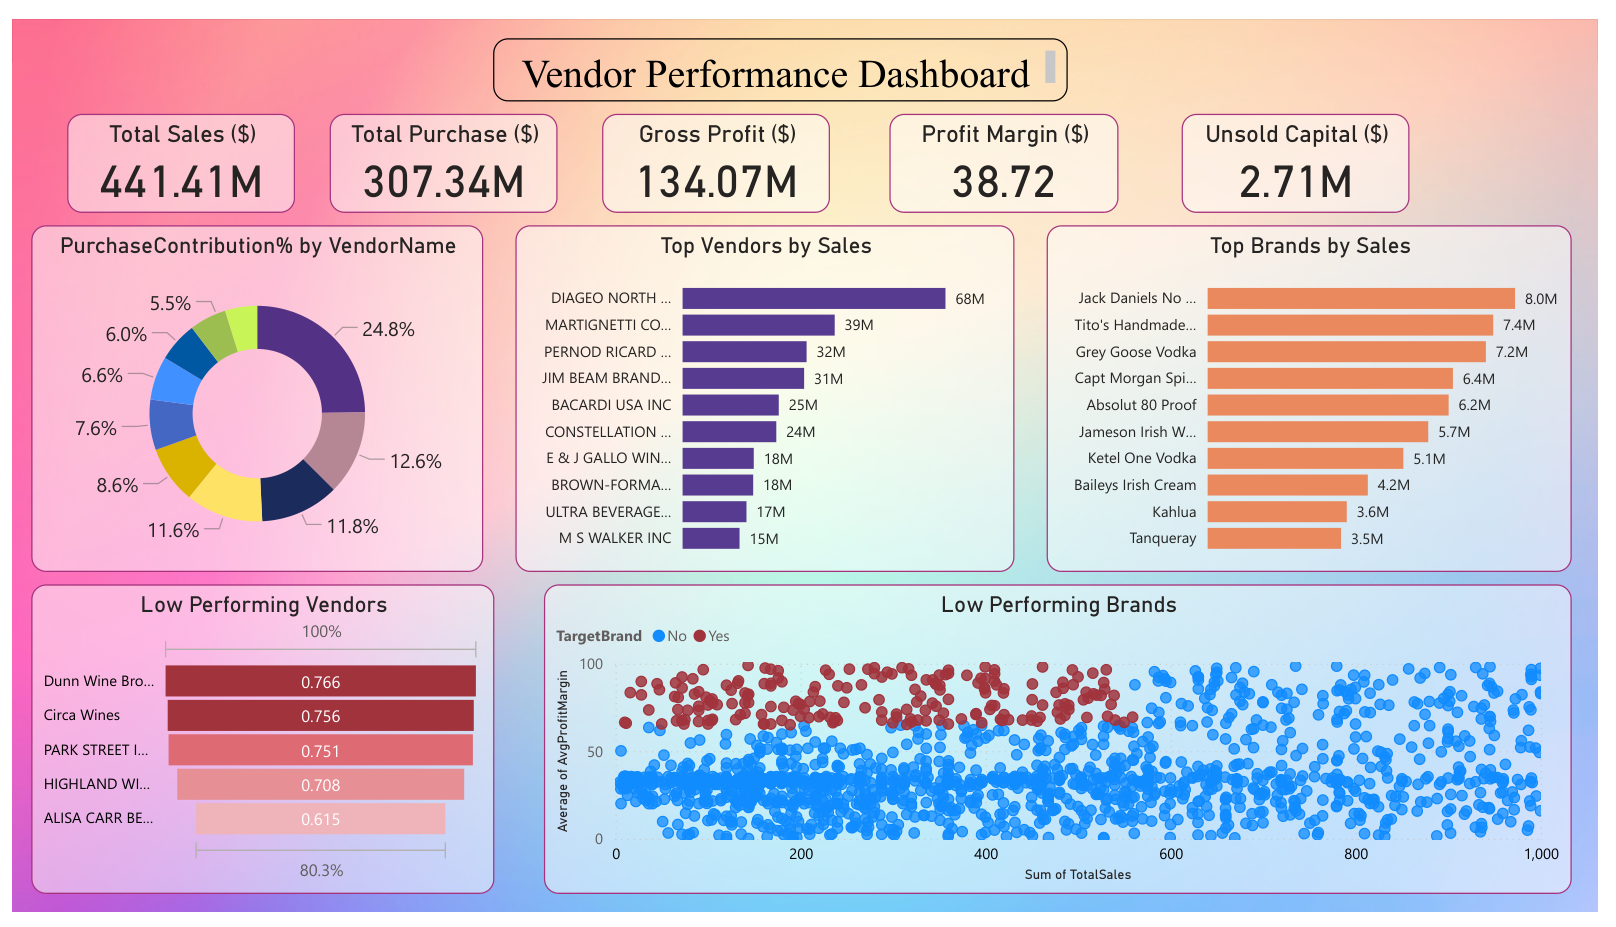

The dashboard page shown, as its layout file describes it:
{"tool":"powerbi","page":{"name":"Page 1","canvas":[1280,720],"ordinal":0},"visuals":[{"type":"textbox","box":[388.3,15.1,463.8,50.8],"z":0},{"type":"card","title":"Total Sales ($)","fields":{"Values":["Sum(vendor_sales_summary.TotalSalesDollars)"]},"box":[43.8,76.2,183.8,80],"z":1000},{"type":"card","title":"Total Purchase ($)","fields":{"Values":["Sum(vendor_sales_summary.TotalPurchaseDollars)"]},"box":[256.2,76.2,183.8,80],"z":2000},{"type":"card","title":"Unsold Capital ($)","fields":{"Values":["Sum(vendor_sales_summary.UnsoldCapital)"]},"box":[943.8,76.2,183.8,80],"z":3000},{"type":"card","title":"Profit Margin ($)","fields":{"Values":["Avg(vendor_sales_summary.ProfitMargin)"]},"box":[707.5,76.2,185,80],"z":4000},{"type":"card","title":"Gross Profit ($)","fields":{"Values":["Sum(vendor_sales_summary.GrossProfit)"]},"box":[476.2,76.2,183.8,80],"z":5000},{"type":"donutChart","title":"PurchaseContribution% by VendorName","fields":{"Category":["PurchaseContribution.VendorName"],"Y":["Sum(PurchaseContribution.PurchaseContribution%)"]},"box":[15,166.2,365,280],"z":6000},{"type":"barChart","title":"Top Vendors by Sales","fields":{"Category":["vendor_sales_summary.VendorName"],"Y":["Sum(vendor_sales_summary.TotalSalesDollars)"]},"box":[406.2,166.2,402.5,280],"z":7000},{"type":"barChart","title":"Top Brands by Sales","fields":{"Y":["Sum(vendor_sales_summary.TotalSalesDollars)"],"Category":["vendor_sales_summary.Description"]},"box":[835,166.2,423.8,280],"z":8000},{"type":"funnel","title":"Low Performing Vendors","fields":{"Category":["LowTurnoverVendor.VendorName"],"Y":["Avg(LowTurnoverVendor.AvgStockTurnover)"]},"box":[15,456.2,373.8,250],"z":9000},{"type":"scatterChart","title":"Low Performing Brands","fields":{"Category":["BrandPerformance.Description"],"X":["Sum(BrandPerformance.TotalSales)"],"Y":["Avg(BrandPerformance.AvgProfitMargin)"],"Series":["BrandPerformance.TargetBrand"]},"box":[428.8,456.2,830,250],"z":9001}]}

Visuals, with their boxes in screenshot pixels (x1, y1, x2, y2), scaled from the page's 1280x720 canvas onto the 1616x927 screenshot:
textbox: 490, 19, 1076, 85
"Total Sales ($)" card: 55, 98, 287, 201
"Total Purchase ($)" card: 323, 98, 556, 201
"Unsold Capital ($)" card: 1192, 98, 1424, 201
"Profit Margin ($)" card: 893, 98, 1127, 201
"Gross Profit ($)" card: 601, 98, 833, 201
"PurchaseContribution% by VendorName" donutChart: 19, 214, 480, 574
"Top Vendors by Sales" barChart: 513, 214, 1021, 574
"Top Brands by Sales" barChart: 1054, 214, 1589, 574
"Low Performing Vendors" funnel: 19, 587, 491, 909
"Low Performing Brands" scatterChart: 541, 587, 1589, 909
